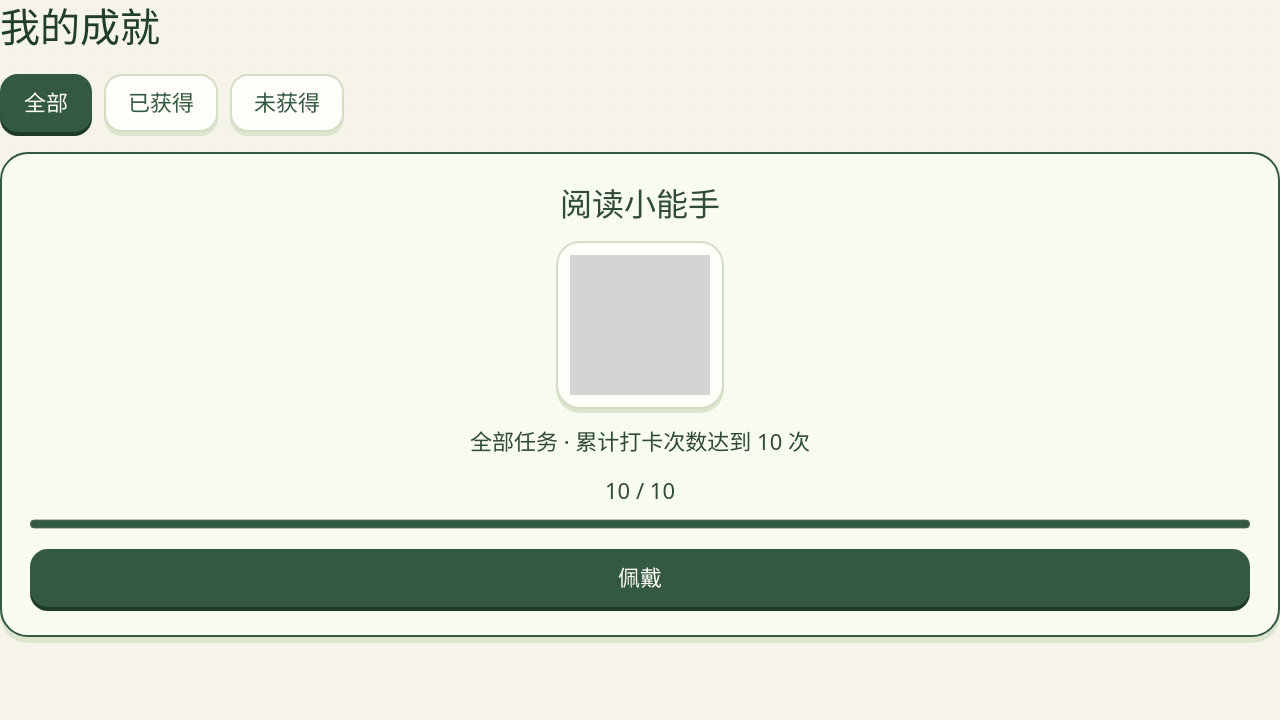
Scenario: 成就浏览和佩戴 › 佩戴失败保留原状态并允许重试
Click the button "佩戴".
click(640, 578)  # box [30,549,1250,607]
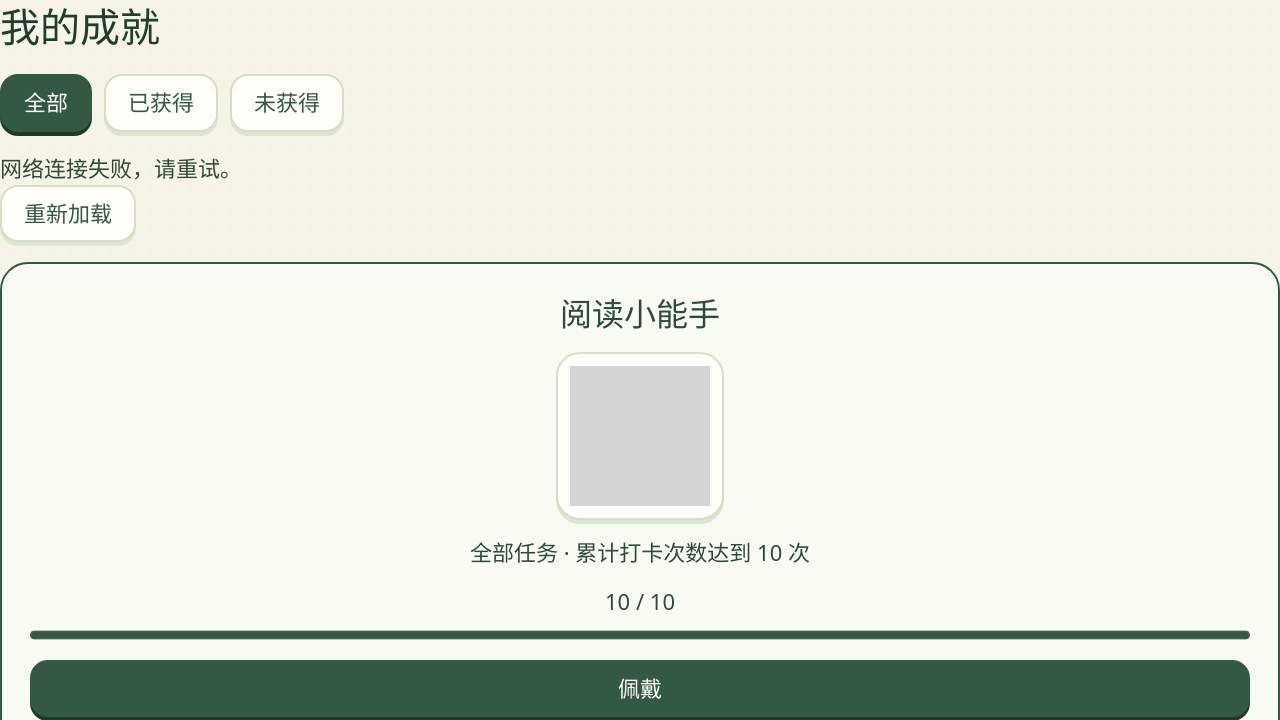
Expected: the button "佩戴" is enabled, [30,660,1250,717]
Expected: the message "网络连接失败，请重试。 重新加载" is shown, [0,153,242,242]
